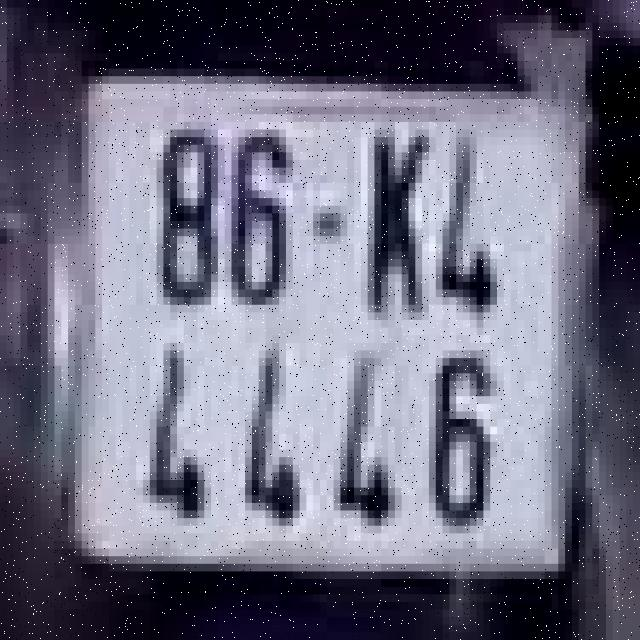4: (119, 328, 215, 526), (432, 133, 514, 339), (324, 346, 405, 544), (228, 339, 303, 530)
6: (419, 339, 514, 530), (221, 118, 303, 301)
8: (150, 114, 224, 305)
K: (354, 126, 429, 331)
